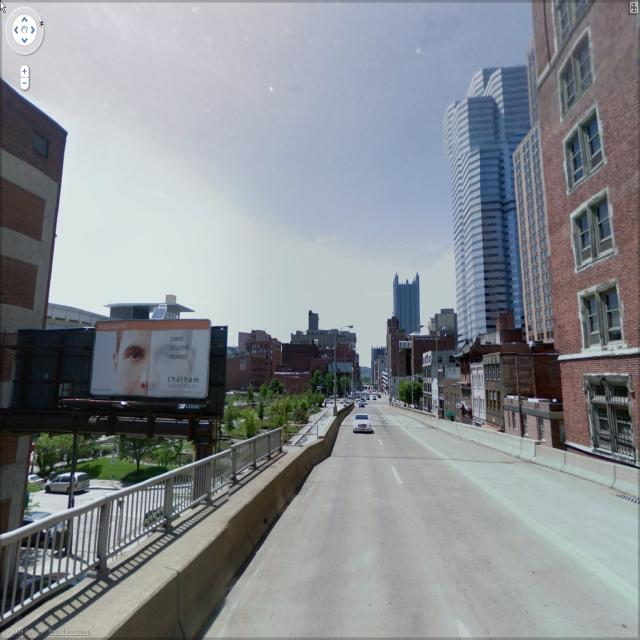b_1: (534, 2, 637, 460), (454, 64, 522, 311), (0, 83, 70, 294), (516, 57, 547, 358), (294, 304, 352, 345), (485, 350, 511, 439), (392, 274, 424, 346), (384, 328, 410, 411), (227, 351, 268, 399), (459, 346, 475, 431), (416, 350, 434, 423), (472, 363, 491, 432), (246, 336, 283, 363), (447, 371, 463, 426), (437, 365, 451, 421)
b_2: (4, 290, 240, 470)
